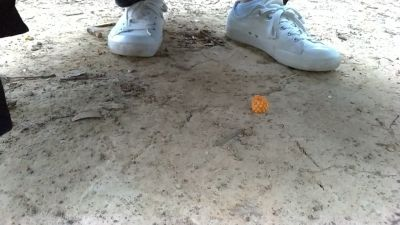eggs: (251, 94, 269, 116)
